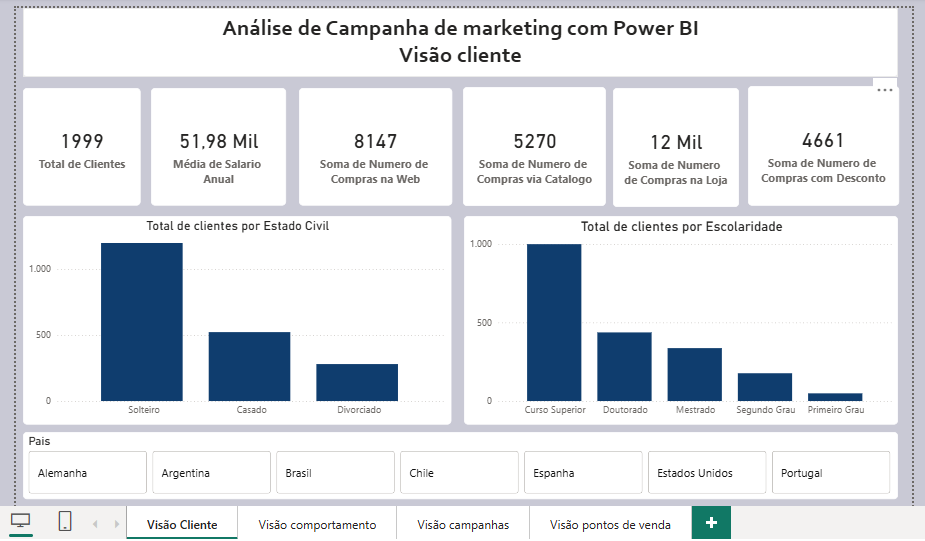

What the dashboard file says about the page in this screenshot:
{"tool":"powerbi","page":{"name":"Visão Cliente","canvas":[1280,720],"ordinal":0},"visuals":[{"type":"card","fields":{"Values":["CountNonNull(Dados marketing.ID)"]},"box":[10.1,113.8,168.5,168.5],"z":0},{"type":"card","fields":{"Values":["Avg(Dados marketing.Salario Anual)"]},"box":[193,113.8,193,168.5],"z":1000},{"type":"card","fields":{"Values":["Sum(Dados marketing.Numero de Compras na Loja)"]},"box":[853.2,113.7,180,169.9],"z":2000},{"type":"card","fields":{"Values":["Sum(Dados marketing.Numero de Compras na Web)"]},"box":[404.6,113.8,218.9,168.5],"z":3000},{"type":"card","fields":{"Values":["Sum(Dados marketing.Numero de Compras via Catalogo)"]},"box":[638.6,112.3,204.5,169.9],"z":4000},{"type":"card","fields":{"Values":["Sum(Dados marketing.Numero de Compras com Desconto)"]},"box":[1046.4,111.6,215.9,171.2],"z":5000},{"type":"clusteredColumnChart","title":"Total de clientes por Escolaridade","fields":{"Category":["Dados marketing.Escolaridade"],"Y":["CountNonNull(Dados marketing.ID)"]},"box":[640,296.7,620,298.3],"z":6000},{"type":"clusteredColumnChart","title":"Total de clientes por Estado Civil","fields":{"Y":["CountNonNull(Dados marketing.ID)"],"Category":["Dados marketing.Estado Civil"]},"box":[10,296.7,611.7,298.3],"z":7000},{"type":"textbox","box":[10,0,1250,98.3],"z":8000},{"type":"advancedSlicerVisual","fields":{"Values":["Dados marketing.Pais"]},"box":[10.1,606.2,1249.9,96.5],"z":9000}]}

Visuals, with their boxes on the page's 1280x720 design canvas (x1, y1, x2, y2). These are canvas units, not pixel positions in the 925x541 screenshot, which may show the page scaled, cropped or inside an application window:
card - CountNonNull(Dados marketing.ID): left=10, top=114, right=179, bottom=282
card - Avg(Dados marketing.Salario Anual): left=193, top=114, right=386, bottom=282
card - Sum(Dados marketing.Numero de Compras na Loja): left=853, top=114, right=1033, bottom=284
card - Sum(Dados marketing.Numero de Compras na Web): left=405, top=114, right=624, bottom=282
card - Sum(Dados marketing.Numero de Compras via Catalogo): left=639, top=112, right=843, bottom=282
card - Sum(Dados marketing.Numero de Compras com Desconto): left=1046, top=112, right=1262, bottom=283
"Total de clientes por Escolaridade" clusteredColumnChart: left=640, top=297, right=1260, bottom=595
"Total de clientes por Estado Civil" clusteredColumnChart: left=10, top=297, right=622, bottom=595
textbox: left=10, top=0, right=1260, bottom=98
advancedSlicerVisual - Dados marketing.Pais: left=10, top=606, right=1260, bottom=703
